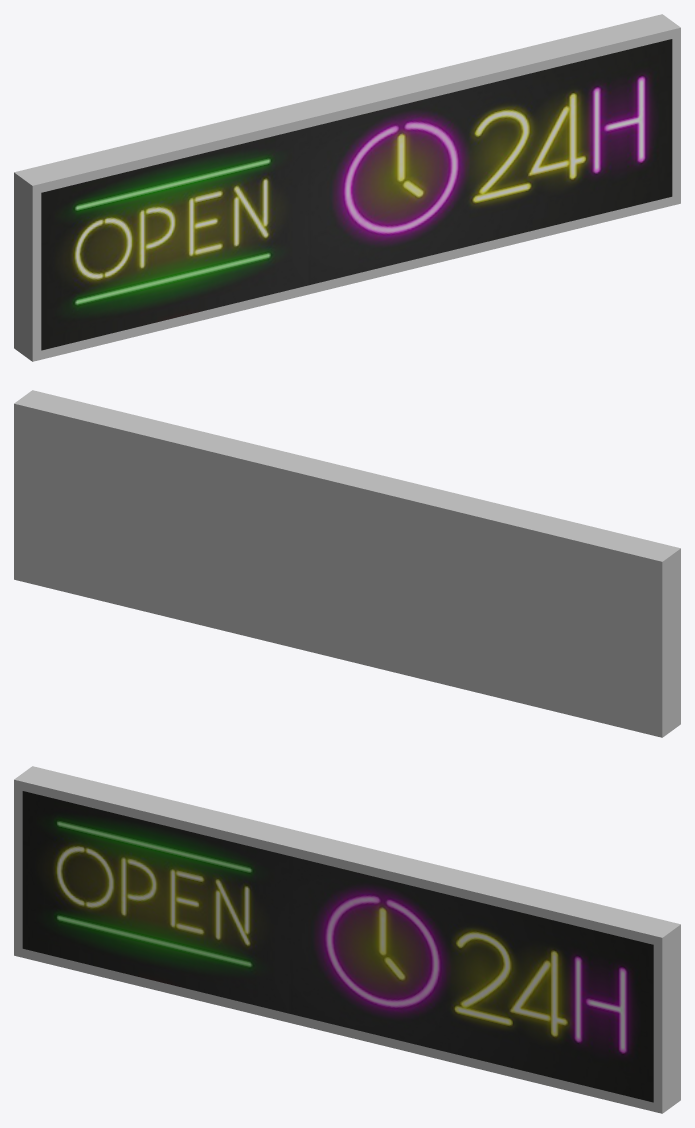
The model's file is Dynamic sign4.FBX.
3 renders of one model, top to bottom at view 1: azimuth 30°, elevation 25°; view 2: azimuth 150°, elevation 25°; view 3: azimuth 330°, elevation 25°, orthographic.
Visible parts, largest first — view 1: ds4, sign frame4; view 2: sign frame4; view 3: ds4, sign frame4.
Part boxes in pixels (box(x1,y1,x2,y2)): ds4: box(41, 39, 672, 350); sign frame4: box(14, 14, 680, 361); sign frame4: box(14, 390, 680, 737); ds4: box(22, 791, 653, 1102); sign frame4: box(14, 766, 680, 1113).
Size of the model in its own units: 20.23 by 5.25 by 1.
